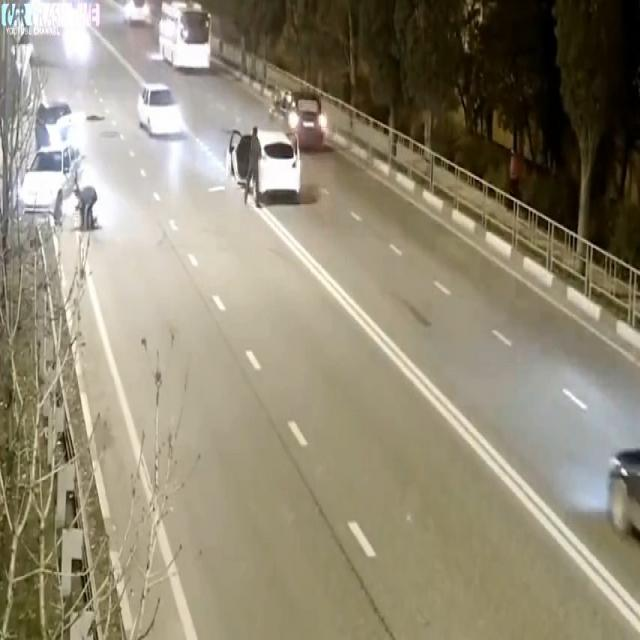Accident: (9, 101, 97, 242)
